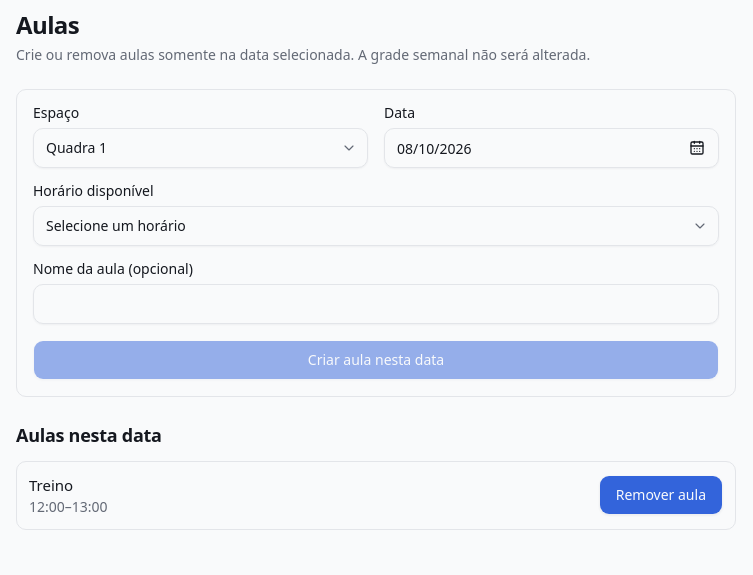
Test case: TeacherLessonsPage › shows a partial date error only after blur and clears it when the date is complete
Replace the text in the field labelled "Data" with "1": coordinates (552, 148) [384, 128, 719, 168]
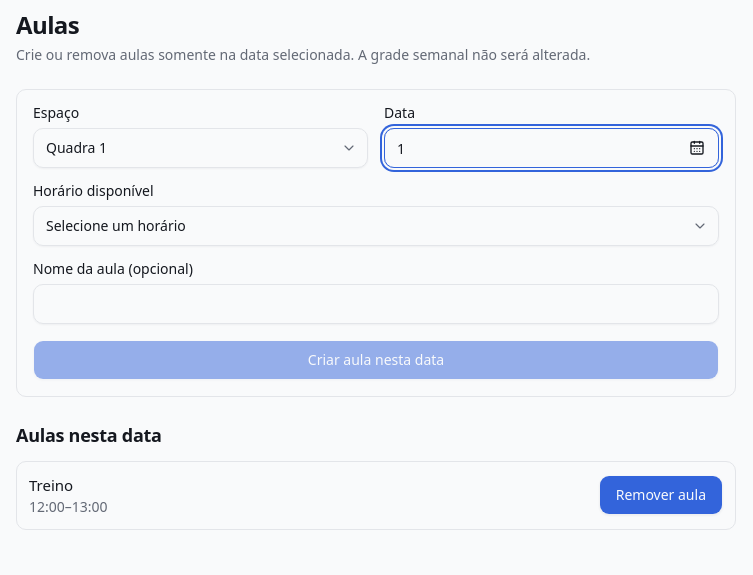
Expected: the text "Informe uma data válida." is not shown
In the field labelled "Data": coordinates (552, 148) [384, 128, 719, 168], type "4/"
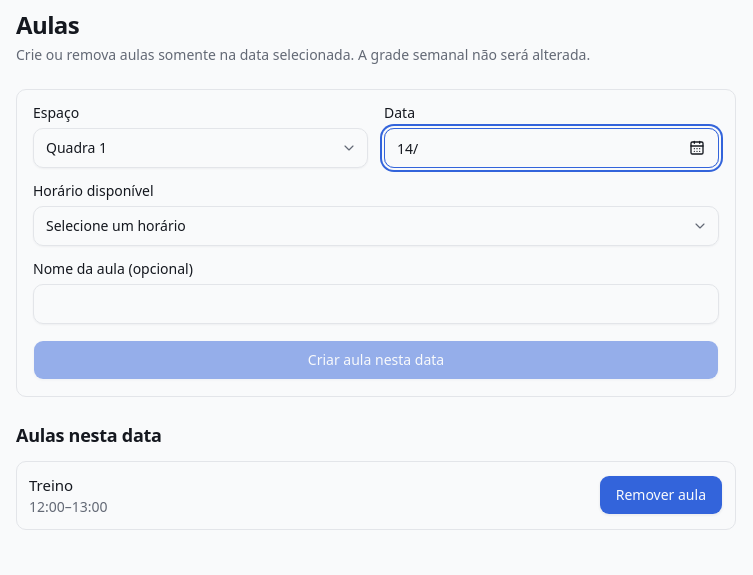
Expected: the text "Informe uma data válida." is not shown
Press Tab
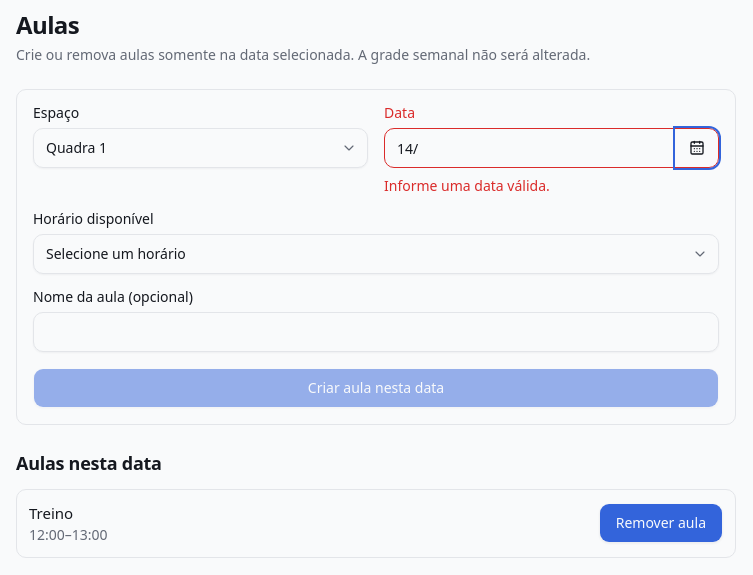
Expected: the text "Informe uma data válida." is shown, [384, 176, 550, 195]
In the field labelled "Data": coordinates (552, 148) [384, 128, 719, 168], type "10/2026"
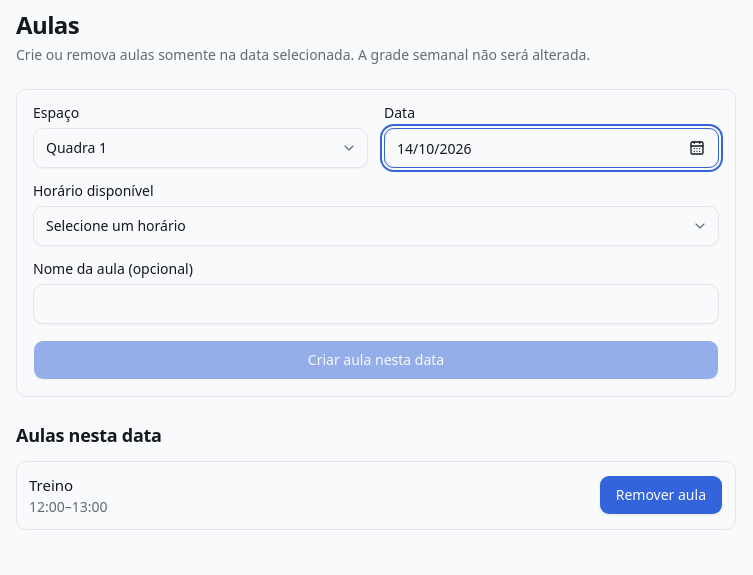
Expected: the text "Informe uma data válida." is gone
Expected: the field labelled "Data" holds "14/10/2026", [384, 128, 719, 168]
